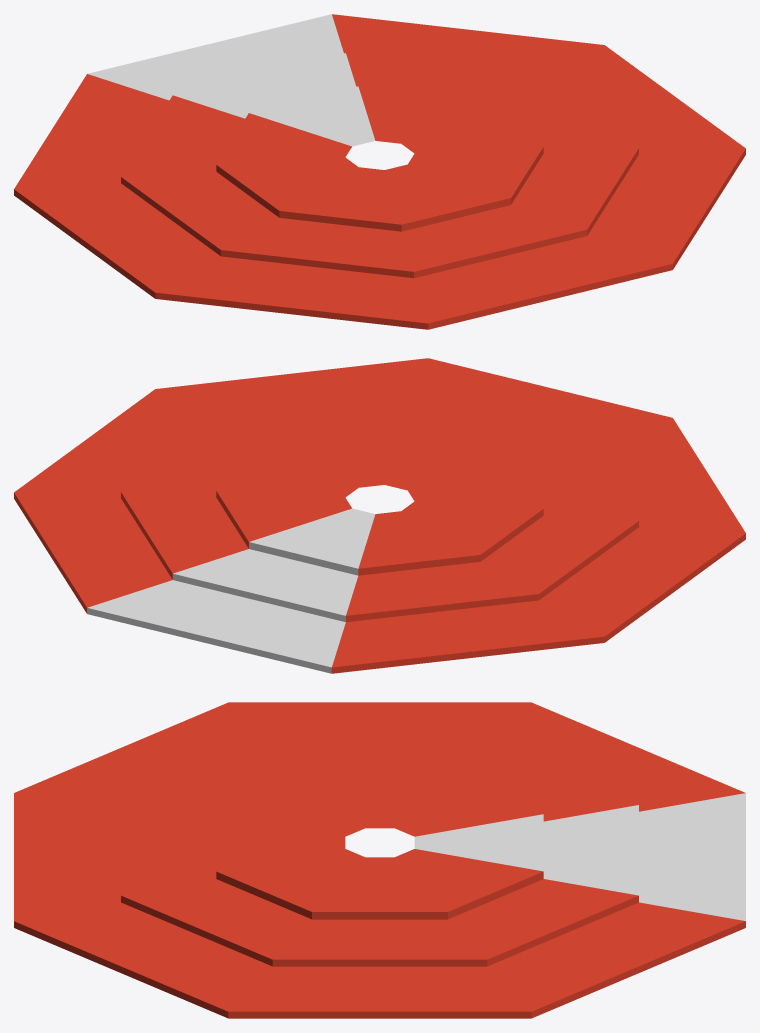
Rendered from beaconSteps.fbx.
3 views of the same model, one above another, from view 1: azimuth 30°, elevation 25°; view 2: azimuth 150°, elevation 25°; view 3: azimuth 270°, elevation 25° (orthographic). The views are drawn at different scales.
Visible parts, largest first — view 1: BeaconSteps; view 2: BeaconSteps; view 3: BeaconSteps.
Part boxes in pixels (x1,y1,x2,y2): BeaconSteps: [14, 14, 745, 329]; BeaconSteps: [14, 358, 745, 673]; BeaconSteps: [14, 702, 745, 1018].
Bounding box in the file's own units: 299 × 9.49 × 299.
